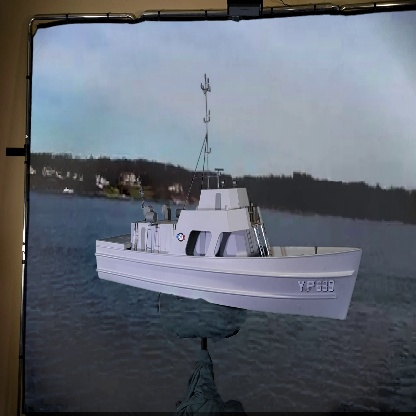YP689: (96, 69, 363, 321)
